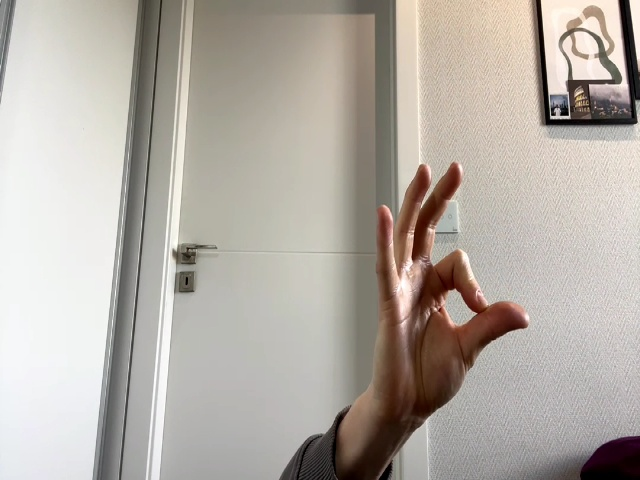S: (374, 163, 530, 407)
